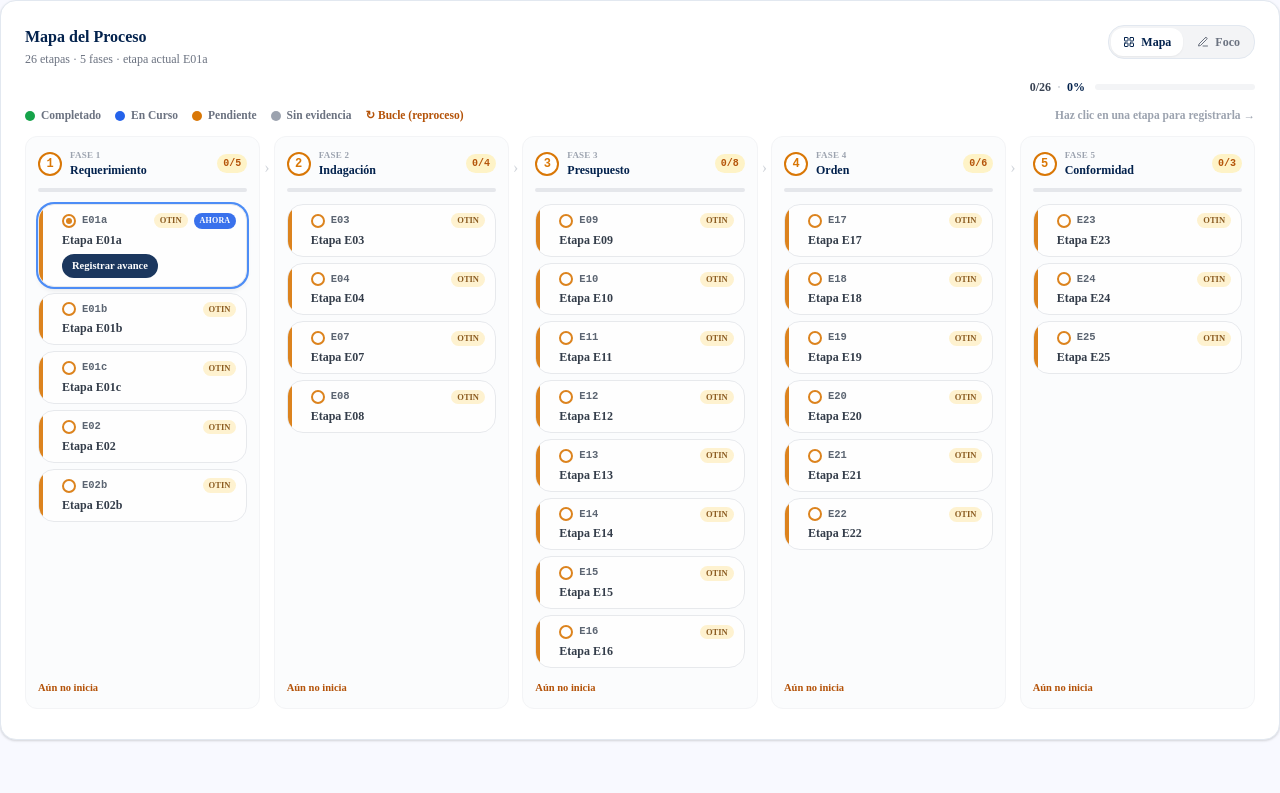
Test: LineaTiempo › clicking 'Mapa' after 'Foco' restores 'Mapa del Proceso' header
The image size is (1280, 793).
Click the tab "Foco". click: (1219, 42)
box: [1185,28,1252,56]
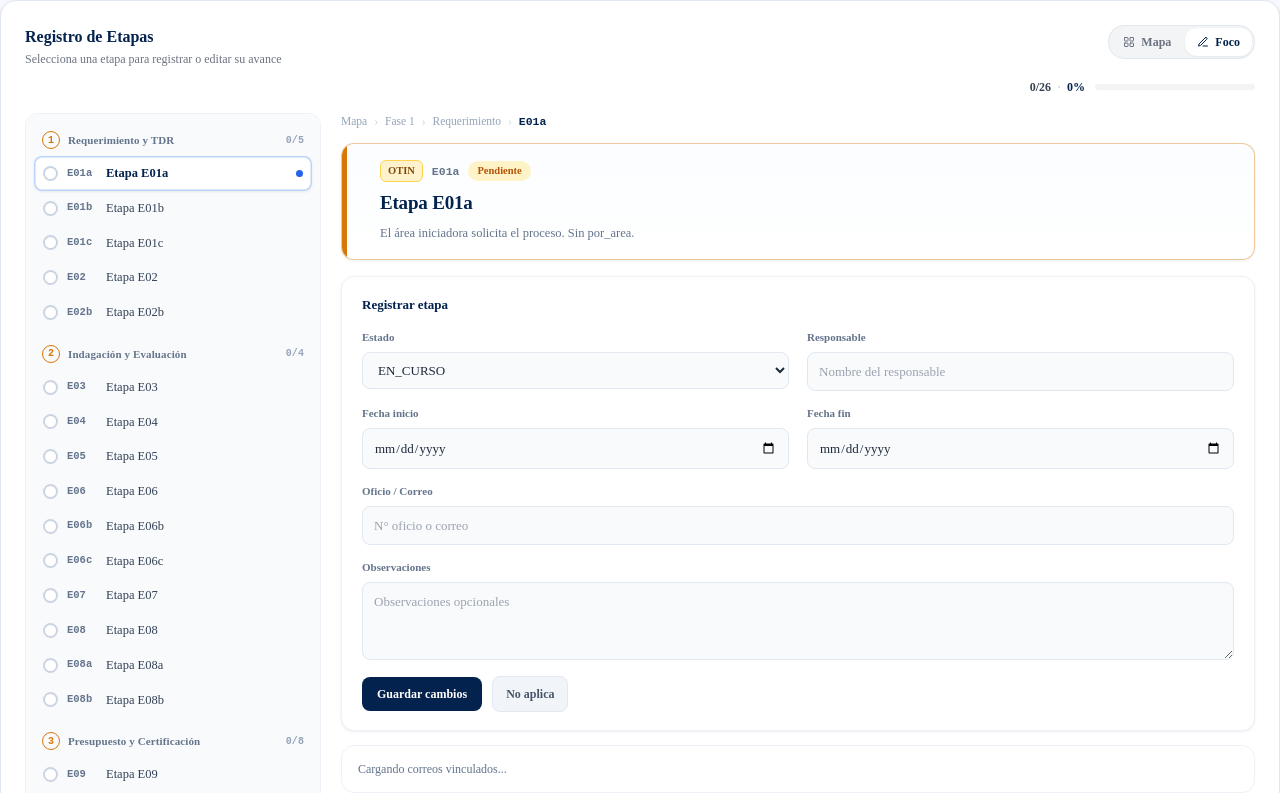
Result: the heading "Registro de Etapas" is shown at [25,28,154,45]
Click the tab "Mapa". click: (1147, 42)
box: [1111,28,1183,56]
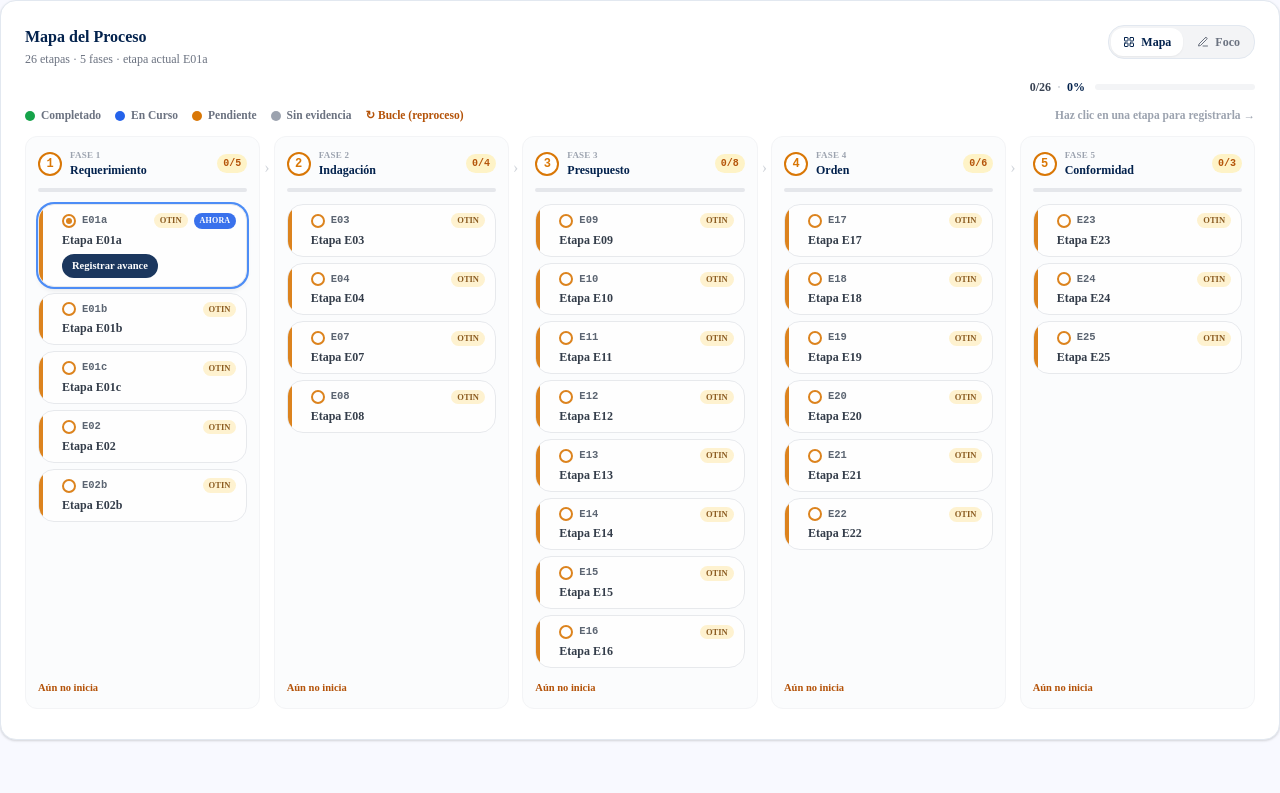
Result: the heading "Mapa del Proceso" is shown at [25,28,146,45]
